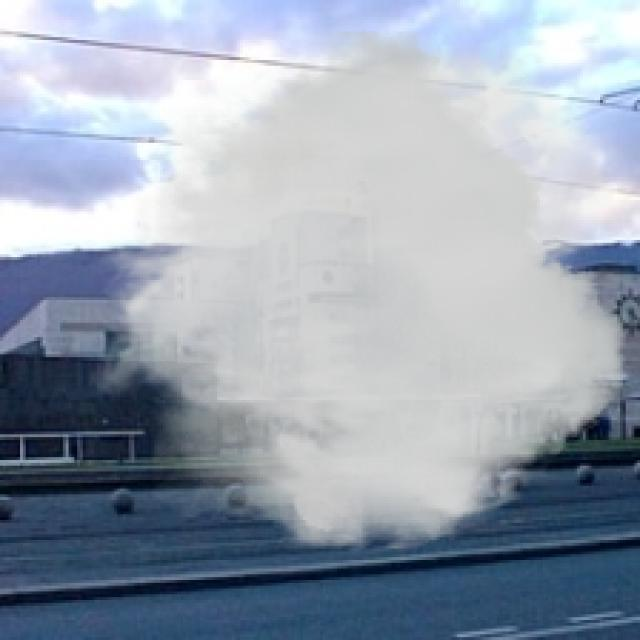Smoke: (85, 31, 626, 558)
